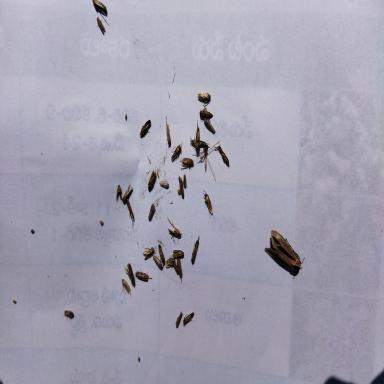pbw: (166, 214, 183, 244), (170, 140, 184, 163), (191, 233, 201, 265), (202, 189, 213, 216), (121, 183, 133, 206), (124, 262, 135, 287), (92, 0, 108, 17), (218, 146, 230, 168), (134, 268, 152, 282), (139, 118, 151, 139), (126, 197, 134, 228), (142, 244, 156, 260), (182, 311, 195, 327), (165, 115, 171, 149), (121, 278, 131, 298), (177, 176, 185, 200), (96, 17, 106, 36), (157, 244, 165, 267), (153, 254, 163, 272), (204, 119, 216, 134), (148, 169, 156, 191), (198, 108, 212, 120), (180, 156, 194, 168), (197, 92, 211, 104), (189, 137, 207, 146), (175, 309, 183, 329), (168, 250, 184, 260), (148, 202, 156, 221), (195, 120, 199, 158), (178, 259, 183, 284), (116, 183, 122, 203), (158, 179, 169, 189), (172, 259, 180, 272), (64, 310, 74, 320), (184, 173, 186, 190)
